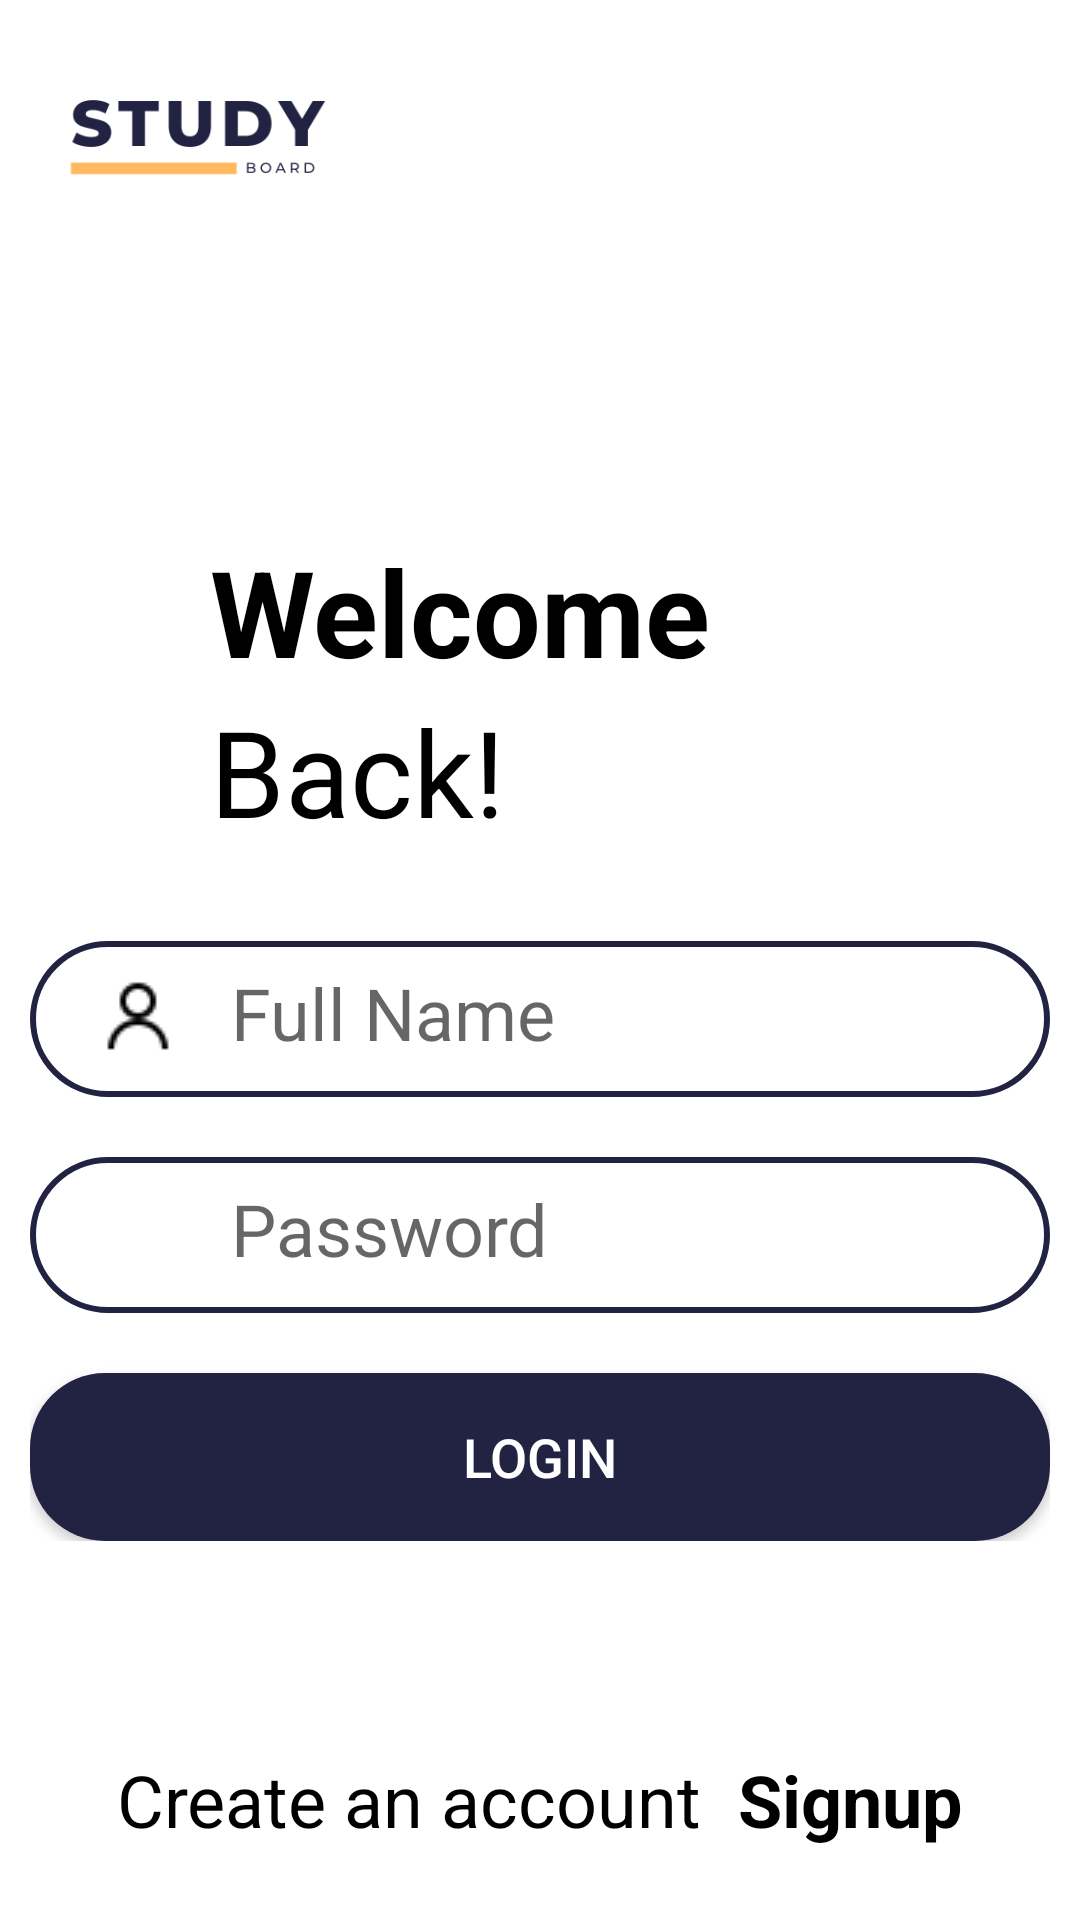

Screen size 1080 x 1920. Icon name, then its box in pixels as (x1,y1,x2,y2):
user: (107,982,169,1050)
